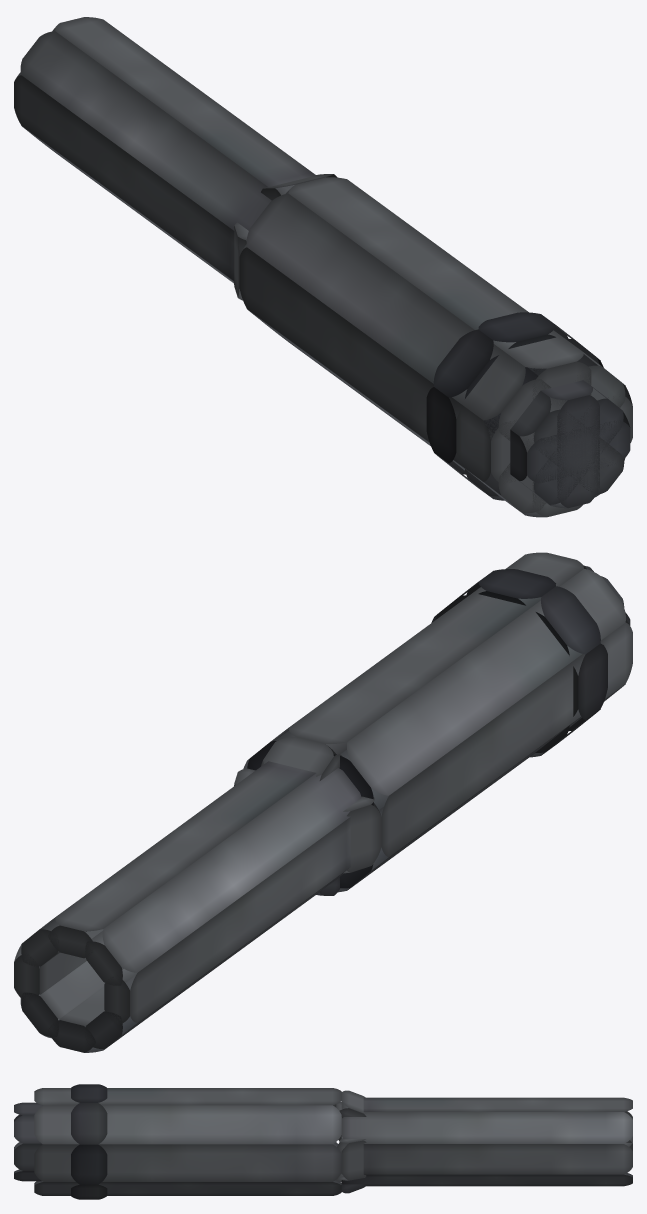
Rendered from deagle_357_muzzle_silencer.fbx.
3 views of the same model, one above another, from view 1: azimuth 30°, elevation 25°; view 2: azimuth 150°, elevation 25°; view 3: azimuth 270°, elevation 25° (orthographic). The views are drawn at different scales.
Visible parts, largest first — view 1: octagon_21, octagon_27, octagon_24, octagon_22, octagon_30, octagon_28, octagon_13, octagon_14, octagon_16, octagon_23, octagon_33, octagon_15 (+3 smaller); view 2: octagon_21, octagon_27, octagon_24, octagon_22, octagon_30, octagon_28, octagon_25, octagon_33, octagon_17, octagon_32, octagon_26, octagon_36 (+6 smaller); view 3: octagon_23, octagon_24, octagon_31, octagon_32, octagon_22, octagon_28, octagon_21, octagon_25, octagon_35, octagon_36, octagon_18, octagon_34 (+7 smaller).
Part boxes in pixels (x1=…): octagon_21: x1=246, y1=193, x2=625, y2=497; octagon_27: x1=20, y1=31, x2=271, y2=230; octagon_24: x1=239, y1=244, x2=632, y2=483; octagon_22: x1=285, y1=177, x2=591, y2=517; octagon_30: x1=14, y1=72, x2=246, y2=280; octagon_28: x1=52, y1=17, x2=316, y2=195; octagon_13: x1=541, y1=380, x2=599, y2=508; octagon_14: x1=510, y1=390, x2=624, y2=494; octagon_16: x1=510, y1=412, x2=630, y2=483; octagon_23: x1=247, y1=309, x2=625, y2=515; octagon_33: x1=433, y1=329, x2=538, y2=433; octagon_15: x1=513, y1=387, x2=623, y2=505; octagon_21: x1=333, y1=569, x2=625, y2=809; octagon_27: x1=85, y1=768, x2=361, y2=985; octagon_24: x1=243, y1=620, x2=632, y2=857; octagon_22: x1=288, y1=552, x2=586, y2=892; octagon_30: x1=104, y1=817, x2=350, y2=1024; octagon_28: x1=48, y1=761, x2=315, y2=958; octagon_25: x1=20, y1=961, x2=104, y2=1038; octagon_33: x1=536, y1=586, x2=600, y2=655; octagon_17: x1=343, y1=796, x2=381, y2=873; octagon_32: x1=14, y1=920, x2=86, y2=1002; octagon_26: x1=48, y1=986, x2=137, y2=1052; octagon_36: x1=431, y1=615, x2=607, y2=719; octagon_23: x1=34, y1=1105, x2=341, y2=1146; octagon_24: x1=34, y1=1104, x2=341, y2=1181; octagon_31: x1=341, y1=1112, x2=632, y2=1146; octagon_32: x1=341, y1=1140, x2=632, y2=1174; octagon_22: x1=34, y1=1088, x2=341, y2=1185; octagon_28: x1=341, y1=1097, x2=632, y2=1119; octagon_21: x1=34, y1=1088, x2=341, y2=1195; octagon_25: x1=341, y1=1174, x2=632, y2=1186; octagon_35: x1=71, y1=1103, x2=107, y2=1144; octagon_36: x1=71, y1=1144, x2=107, y2=1184; octagon_18: x1=337, y1=1138, x2=366, y2=1180; octagon_34: x1=71, y1=1084, x2=107, y2=1102.
Size of the model in its own units: 18.36 by 18.36 by 106.
Materials: 1 (1 with a texture image).
